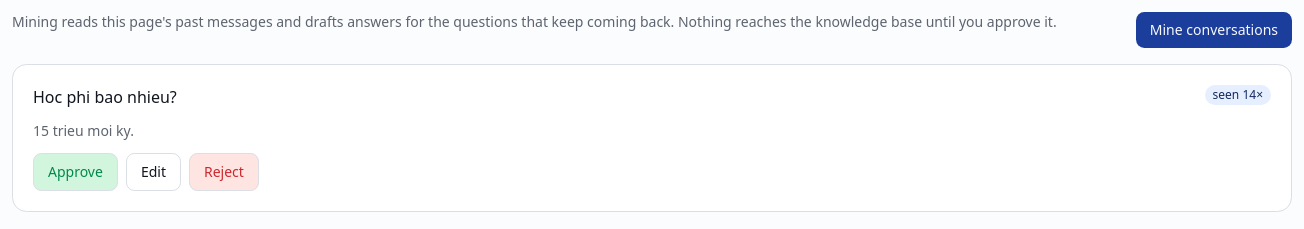
Test: LearningTab › approves a suggestion and removes it from the queue
What coordinates should you click on to do the following:
click the button "Approve"
I would click on:
 (75, 172)
Its box is [33,153,118,191].
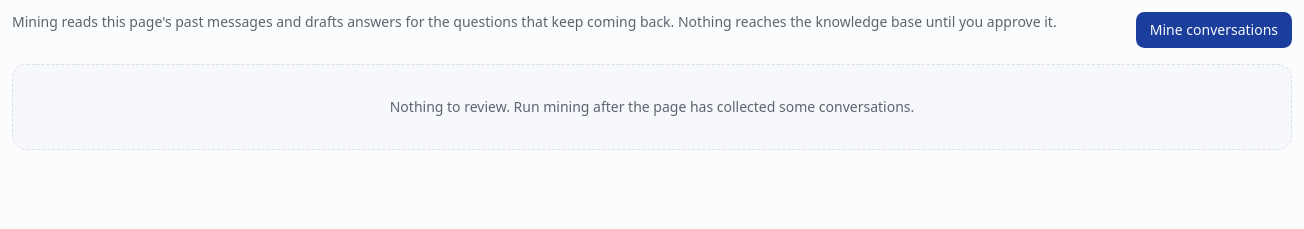
Now the text "Hoc phi bao nhieu?" is gone
